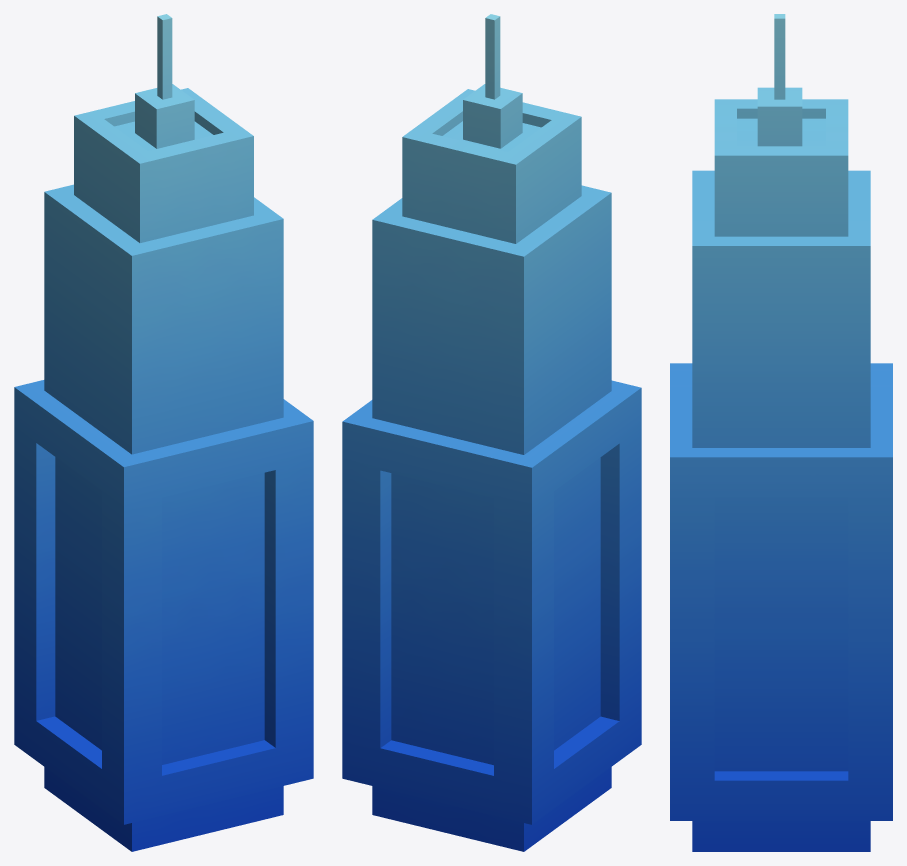
File: build2.fbx
3 renders of one model, left to right at view 1: azimuth 30°, elevation 25°; view 2: azimuth 150°, elevation 25°; view 3: azimuth 270°, elevation 25°, orthographic.
Parts seen in each view (by area): view 1: low_buildingF; view 2: low_buildingF; view 3: low_buildingF.
Part boxes in pixels (left/top/right/bottom): low_buildingF: left=14, top=14, right=313, bottom=851; low_buildingF: left=342, top=14, right=641, bottom=851; low_buildingF: left=670, top=14, right=892, bottom=851.
Size of the model in its own units: 50 by 198 by 50.
